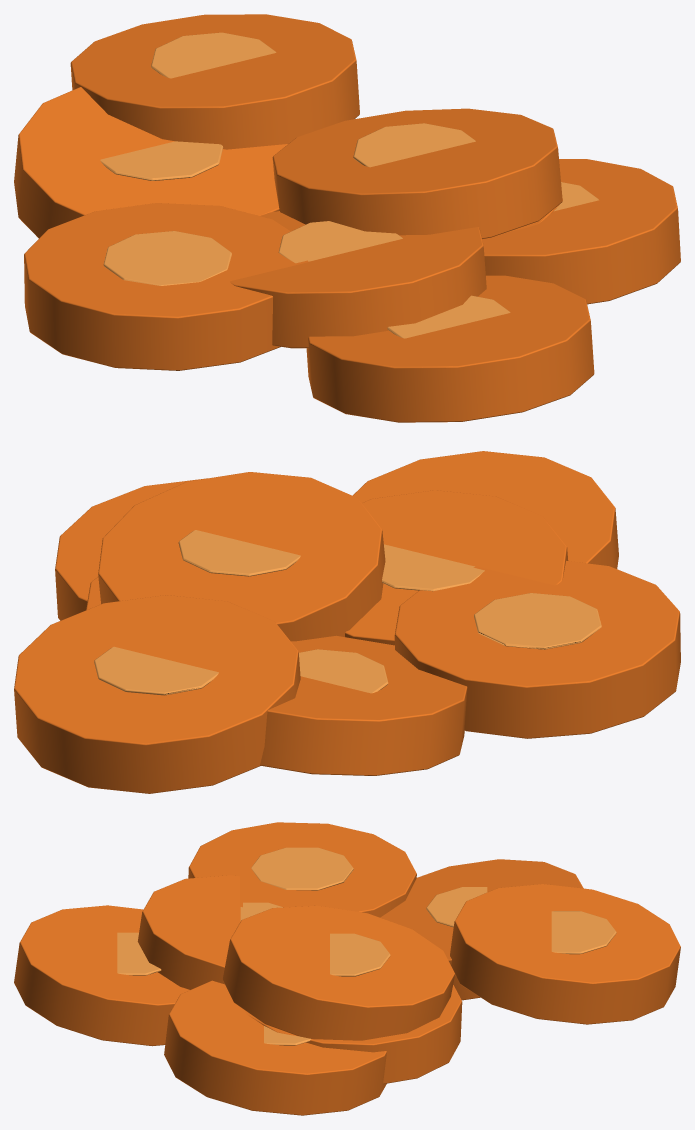
The model's file is Carrot_Chopped.glb.
3 views of the same model, one above another, from view 1: azimuth 30°, elevation 25°; view 2: azimuth 150°, elevation 25°; view 3: azimuth 270°, elevation 25° (orthographic). The views are drawn at different scales.
Parts seen in each view (by area): view 1: Carrot_Chopped; view 2: Carrot_Chopped; view 3: Carrot_Chopped.
Part boxes in pixels (x1,y1,x2,y2): Carrot_Chopped: (14,14,680,422); Carrot_Chopped: (14,451,680,793); Carrot_Chopped: (14,822,680,1115).
Bounding box in the file's own units: 0.105 × 0.0233 × 0.1286.
